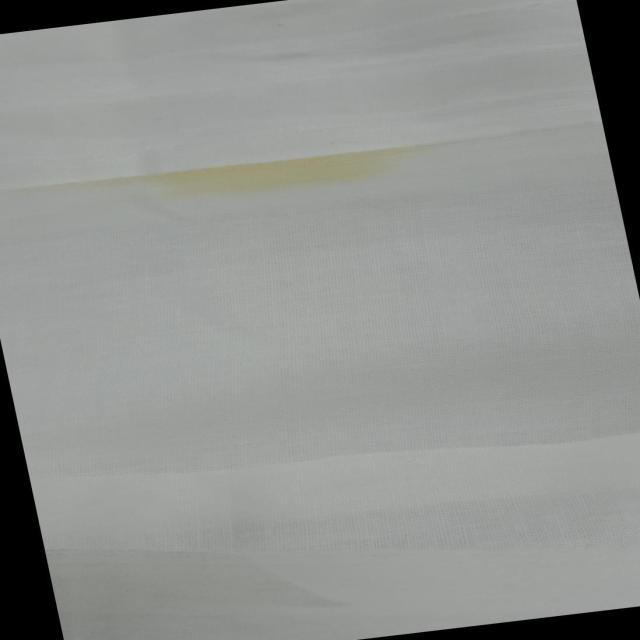stain: (88, 123, 454, 226)
